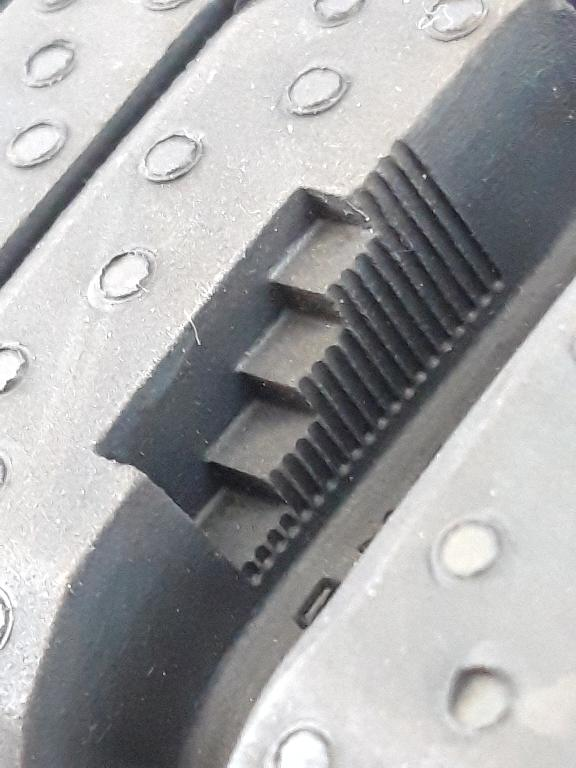temoin:100: (86, 134, 509, 592)
